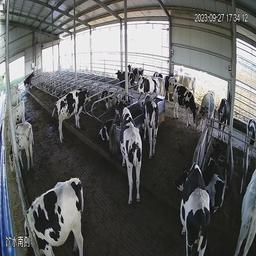cow: (21, 177, 87, 248), (173, 147, 213, 250), (114, 101, 144, 210), (48, 84, 90, 146), (233, 154, 254, 249), (3, 125, 40, 170), (207, 136, 226, 220), (169, 79, 198, 127), (141, 92, 161, 155), (195, 82, 216, 131), (134, 73, 168, 98), (3, 100, 28, 124), (117, 64, 136, 94), (218, 95, 231, 134), (96, 112, 111, 142), (96, 83, 113, 107), (5, 82, 23, 101)
